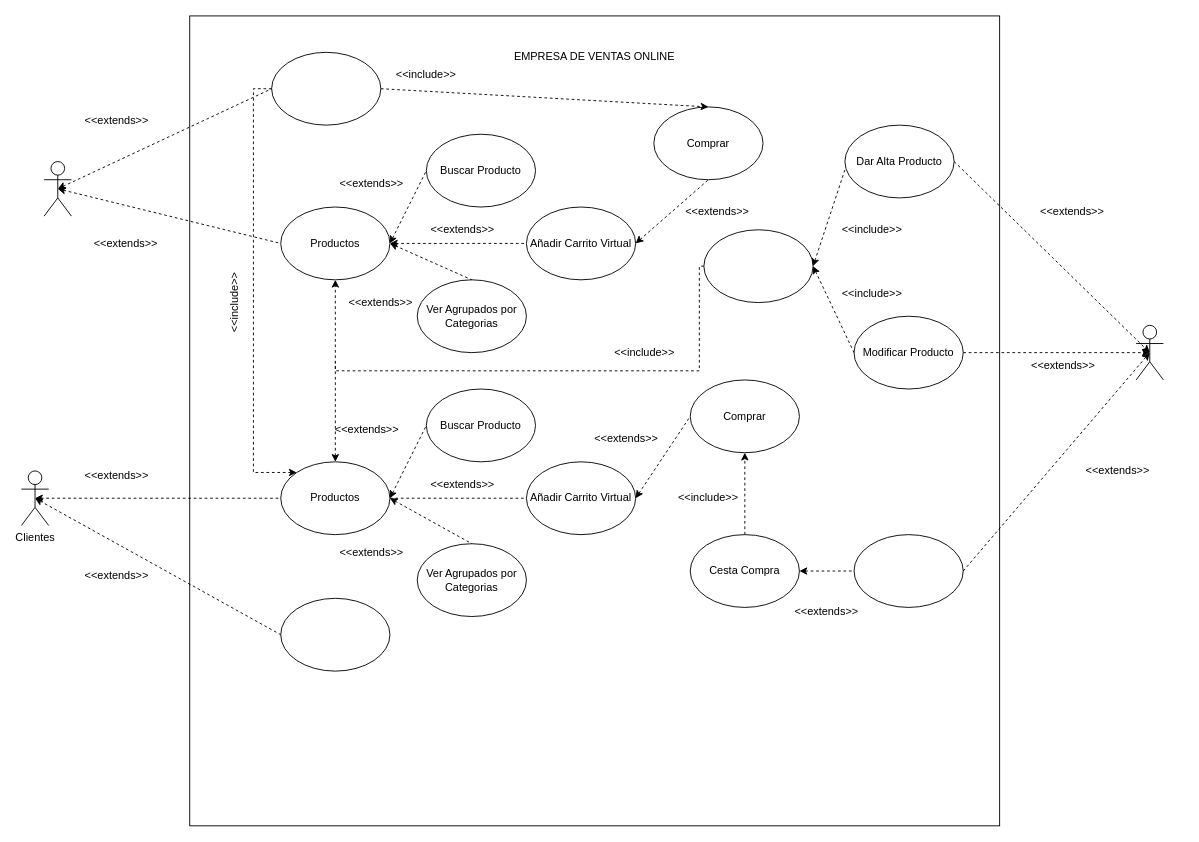
Some shapes in this 1199 by 842 pixel diagram are drawn without their labels. The shapes that lost their labels are listed below. From the top down, each one's box as (x1, y1, x2, y2) in pixels, then its label:
(271, 51, 381, 125): Registrarse
(43, 161, 71, 216): SinRegistrar
(703, 229, 813, 303): Almacen
(1135, 324, 1163, 380): Administrador
(853, 534, 963, 607): Gestionar Compras
(280, 597, 390, 671): Modificar Datos Personales
